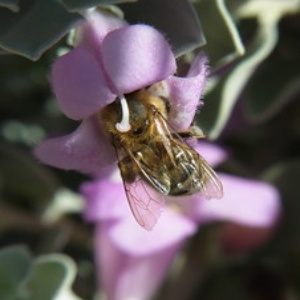bee: (100, 98, 223, 231)
